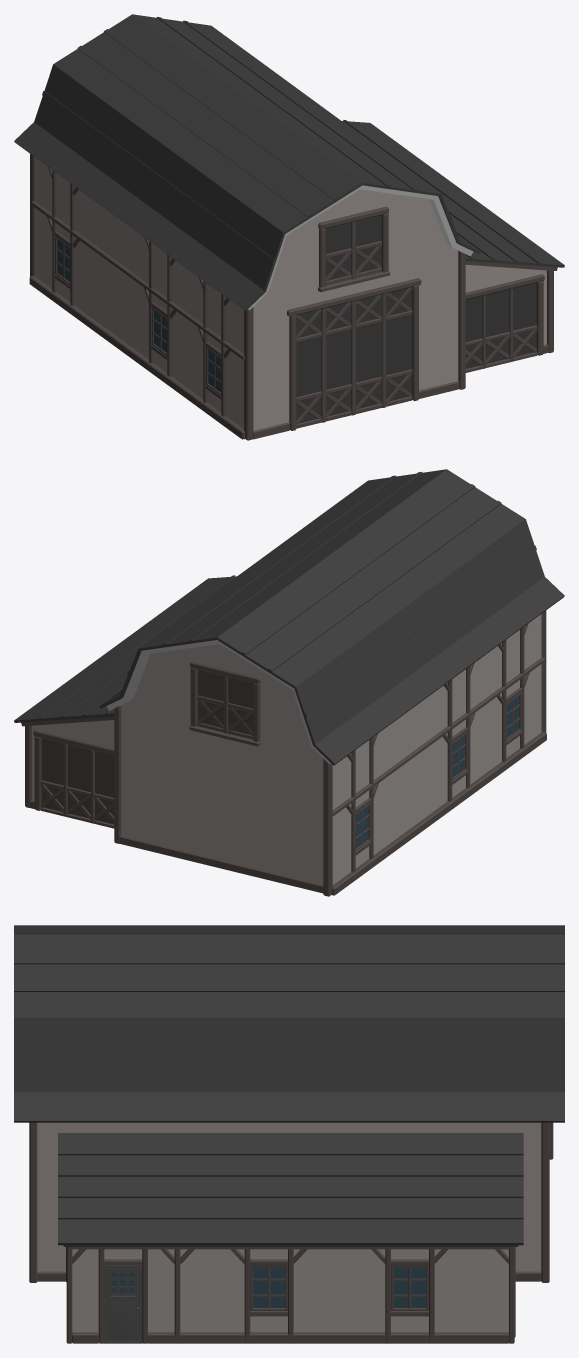
Rendered from farmbuilding_04.glb.
3 renders of one model, top to bottom at view 1: azimuth 30°, elevation 25°; view 2: azimuth 150°, elevation 25°; view 3: azimuth 270°, elevation 25°, orthographic. The views are drawn at different scales.
Parts seen in each view (by area): view 1: farmbuilding_04; view 2: farmbuilding_04; view 3: farmbuilding_04.
Boxes of the visible parts, box(x1,y1,x2,y2) form: farmbuilding_04: box(14, 14, 564, 440); farmbuilding_04: box(14, 469, 564, 896); farmbuilding_04: box(14, 925, 564, 1343).
Bounding box in the file's own units: 12.78 × 8.58 × 15.03.
1 material, 1 textured.
